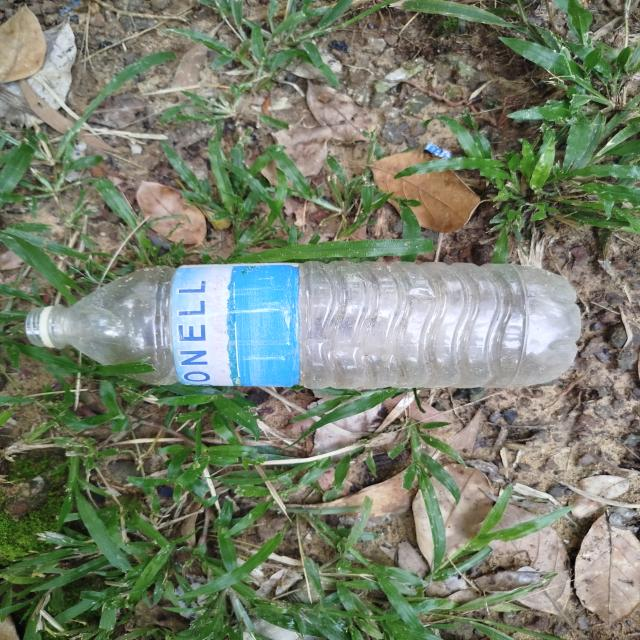plastic: (26, 246, 606, 419)
